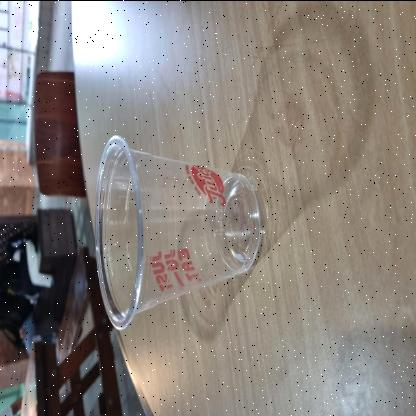Others: (91, 125, 265, 335)
